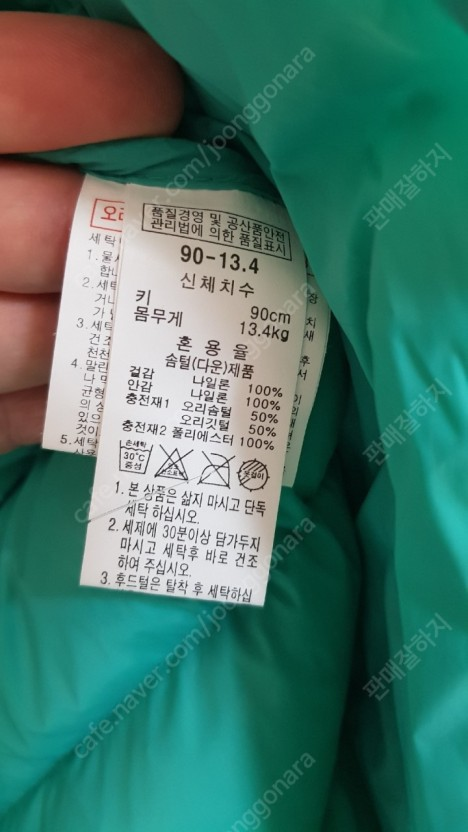KR_hand_wash_30_neutral: (116, 435, 152, 476)
KR_hang_dry_in_shade: (237, 455, 271, 494)
KR_no_bleach: (153, 443, 193, 485)
KR_no_iron: (195, 448, 233, 493)
